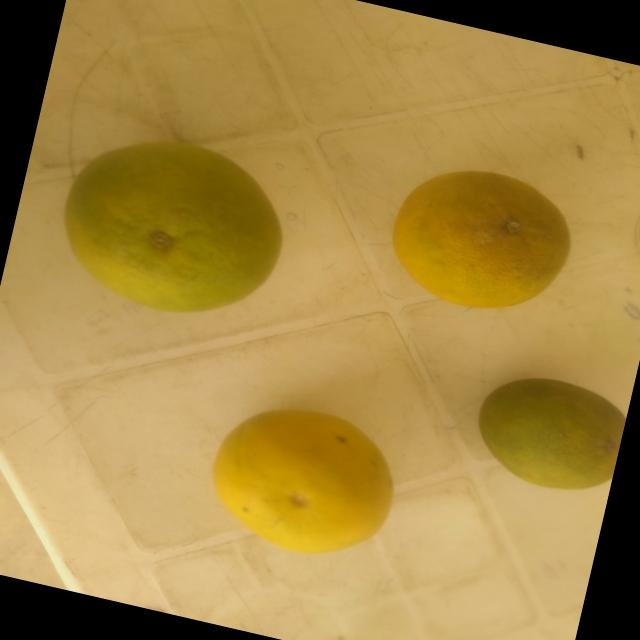agrume: (42, 103, 306, 358), (349, 129, 602, 347), (190, 378, 424, 575), (436, 347, 633, 521)
